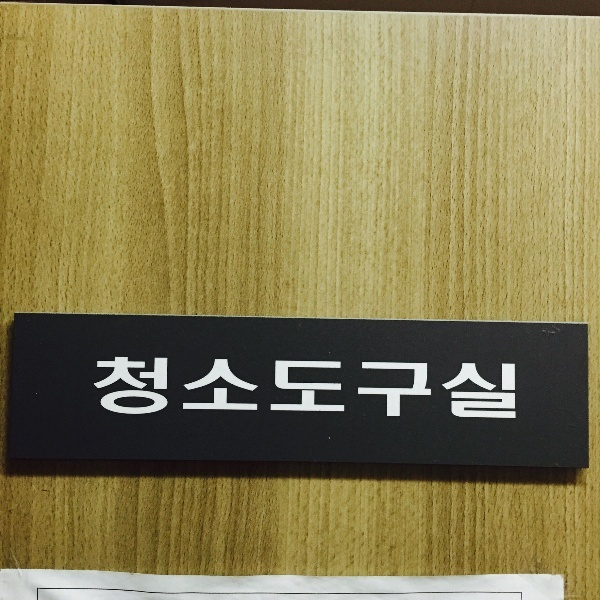text: (97, 348, 112, 432), (113, 348, 128, 432), (129, 348, 144, 432), (145, 348, 160, 432), (161, 348, 176, 432), (177, 348, 192, 432), (193, 348, 208, 432), (209, 348, 224, 432), (225, 348, 240, 432), (241, 348, 256, 432), (257, 348, 272, 432), (273, 348, 288, 432), (289, 348, 304, 432), (305, 348, 320, 432), (321, 348, 336, 432), (337, 348, 352, 432), (353, 348, 368, 432), (369, 348, 384, 432), (385, 348, 400, 432), (401, 348, 416, 432), (417, 348, 432, 432), (433, 348, 448, 432), (449, 348, 464, 432), (465, 348, 480, 432), (481, 348, 496, 432), (497, 348, 512, 432), (513, 348, 528, 432), (90, 348, 96, 432)
